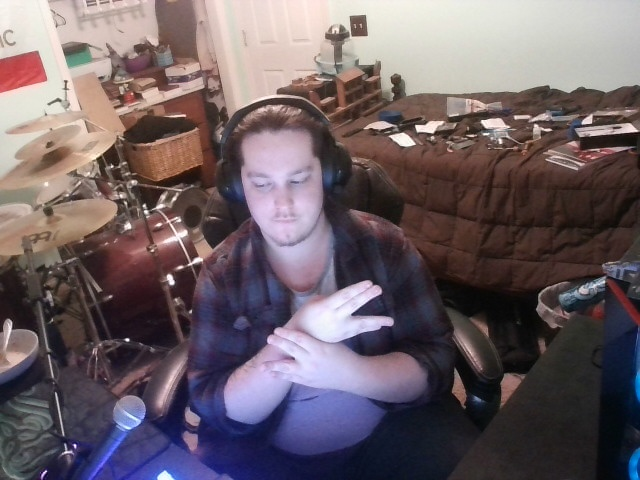world: (245, 272, 400, 400)
